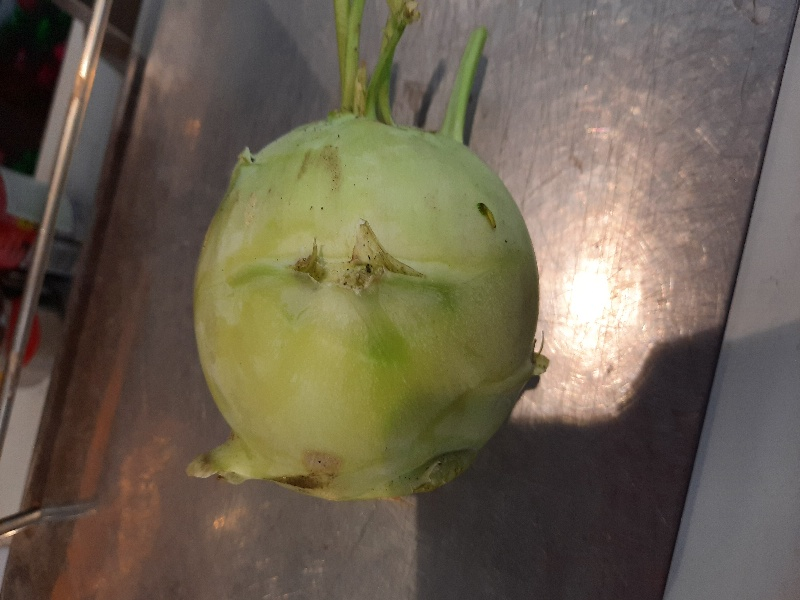vege: (187, 12, 554, 526)
